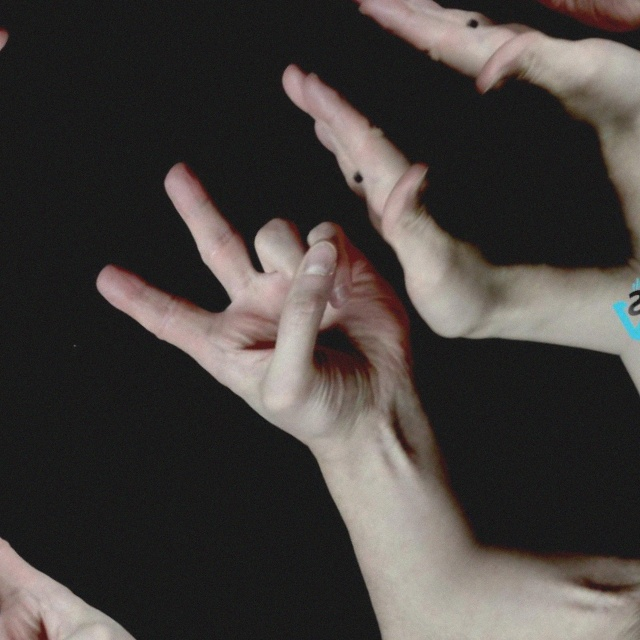Scissors: (0, 0, 42, 167)
